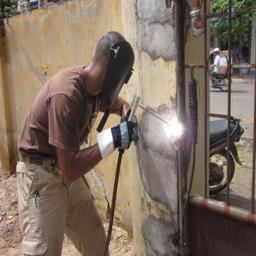no hat: (91, 28, 133, 108)
no vest: (15, 61, 97, 206)
